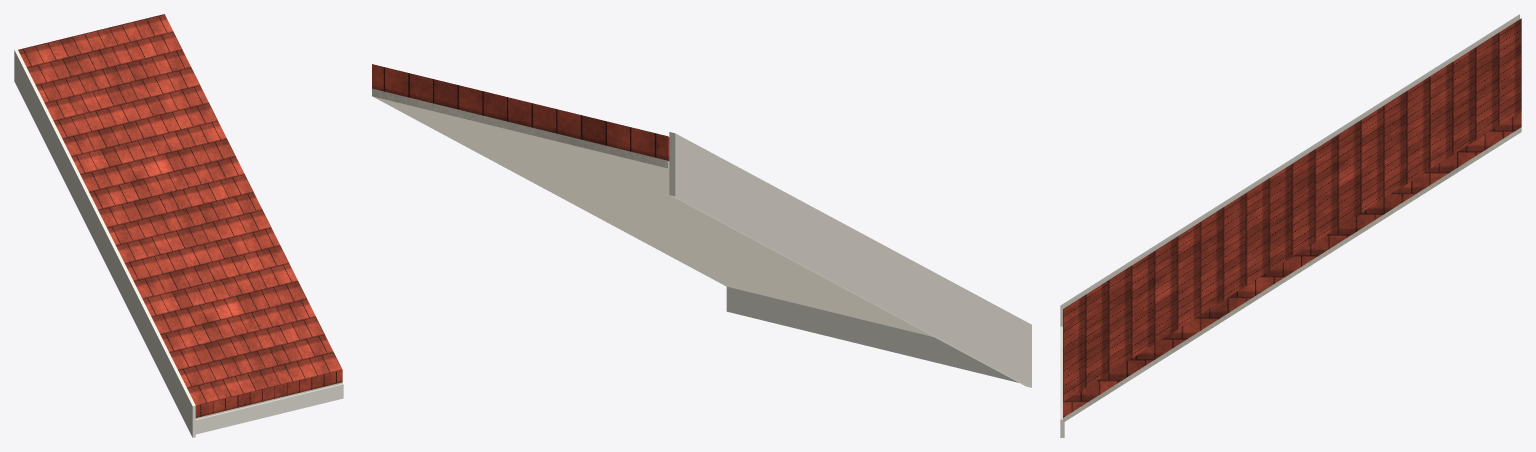
File: roof_front_end_l.glb
3 views of the same model, side by side, from view 1: azimuth 30°, elevation 25°; view 2: azimuth 150°, elevation 25°; view 3: azimuth 270°, elevation 25° (orthographic). The views are drawn at different scales.
Visible parts, largest first — view 1: roof_front_end_l_roof, roof_front_end_l_trim; view 2: roof_front_end_l_trim, roof_front_end_l_plaster, roof_front_end_l_roof; view 3: roof_front_end_l_roof, roof_front_end_l_trim, roof_front_end_l_plaster.
Part boxes in pixels (x1,y1,x2,y2): roof_front_end_l_roof: (18, 14, 342, 417); roof_front_end_l_trim: (14, 49, 343, 437); roof_front_end_l_trim: (669, 132, 1031, 387); roof_front_end_l_plaster: (372, 88, 932, 336); roof_front_end_l_roof: (372, 64, 669, 160); roof_front_end_l_roof: (1063, 18, 1521, 417); roof_front_end_l_trim: (1060, 14, 1519, 437); roof_front_end_l_plaster: (1063, 127, 1521, 422).
Size of the model in its own units: 2.45 by 4 by 5.03.
3 materials, 2 textured.
